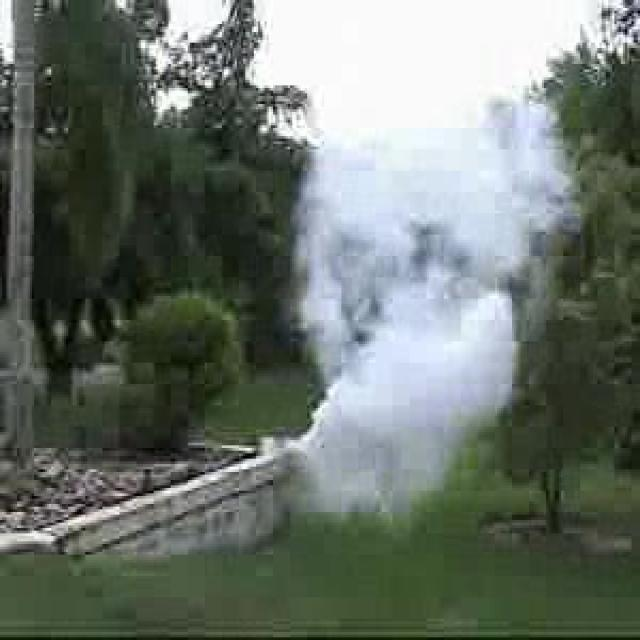Smoke: (276, 64, 572, 518)
